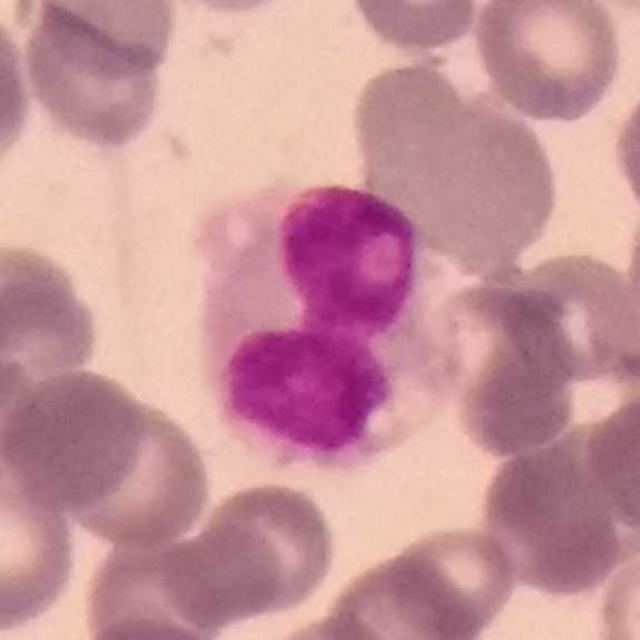Monocyte: (181, 168, 476, 476)
RBC: (388, 86, 566, 269), (423, 276, 583, 459), (475, 433, 632, 597), (27, 4, 188, 157), (178, 476, 342, 626), (62, 391, 215, 551), (1, 364, 151, 515), (468, 0, 626, 125), (500, 246, 639, 386), (81, 523, 226, 640), (345, 56, 479, 182), (0, 235, 105, 395), (380, 521, 520, 639), (0, 443, 82, 639), (318, 546, 487, 640), (3, 0, 180, 71), (581, 383, 640, 550), (343, 0, 491, 58), (0, 5, 37, 184), (607, 74, 640, 229), (591, 540, 640, 640), (250, 611, 404, 640), (74, 612, 232, 640)
